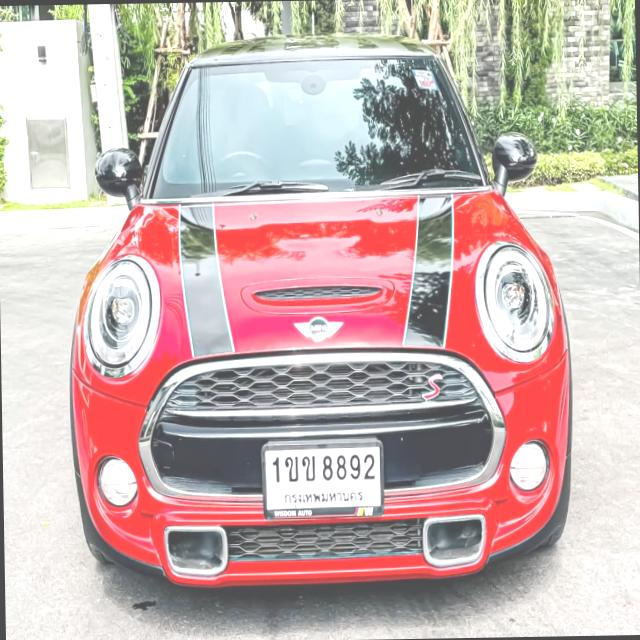license_plate: (259, 432, 386, 522)
